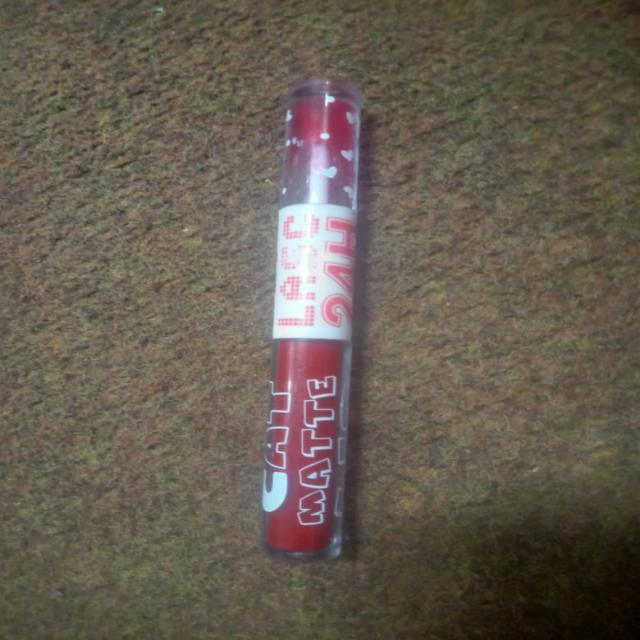lip gloss: (200, 60, 400, 576)
